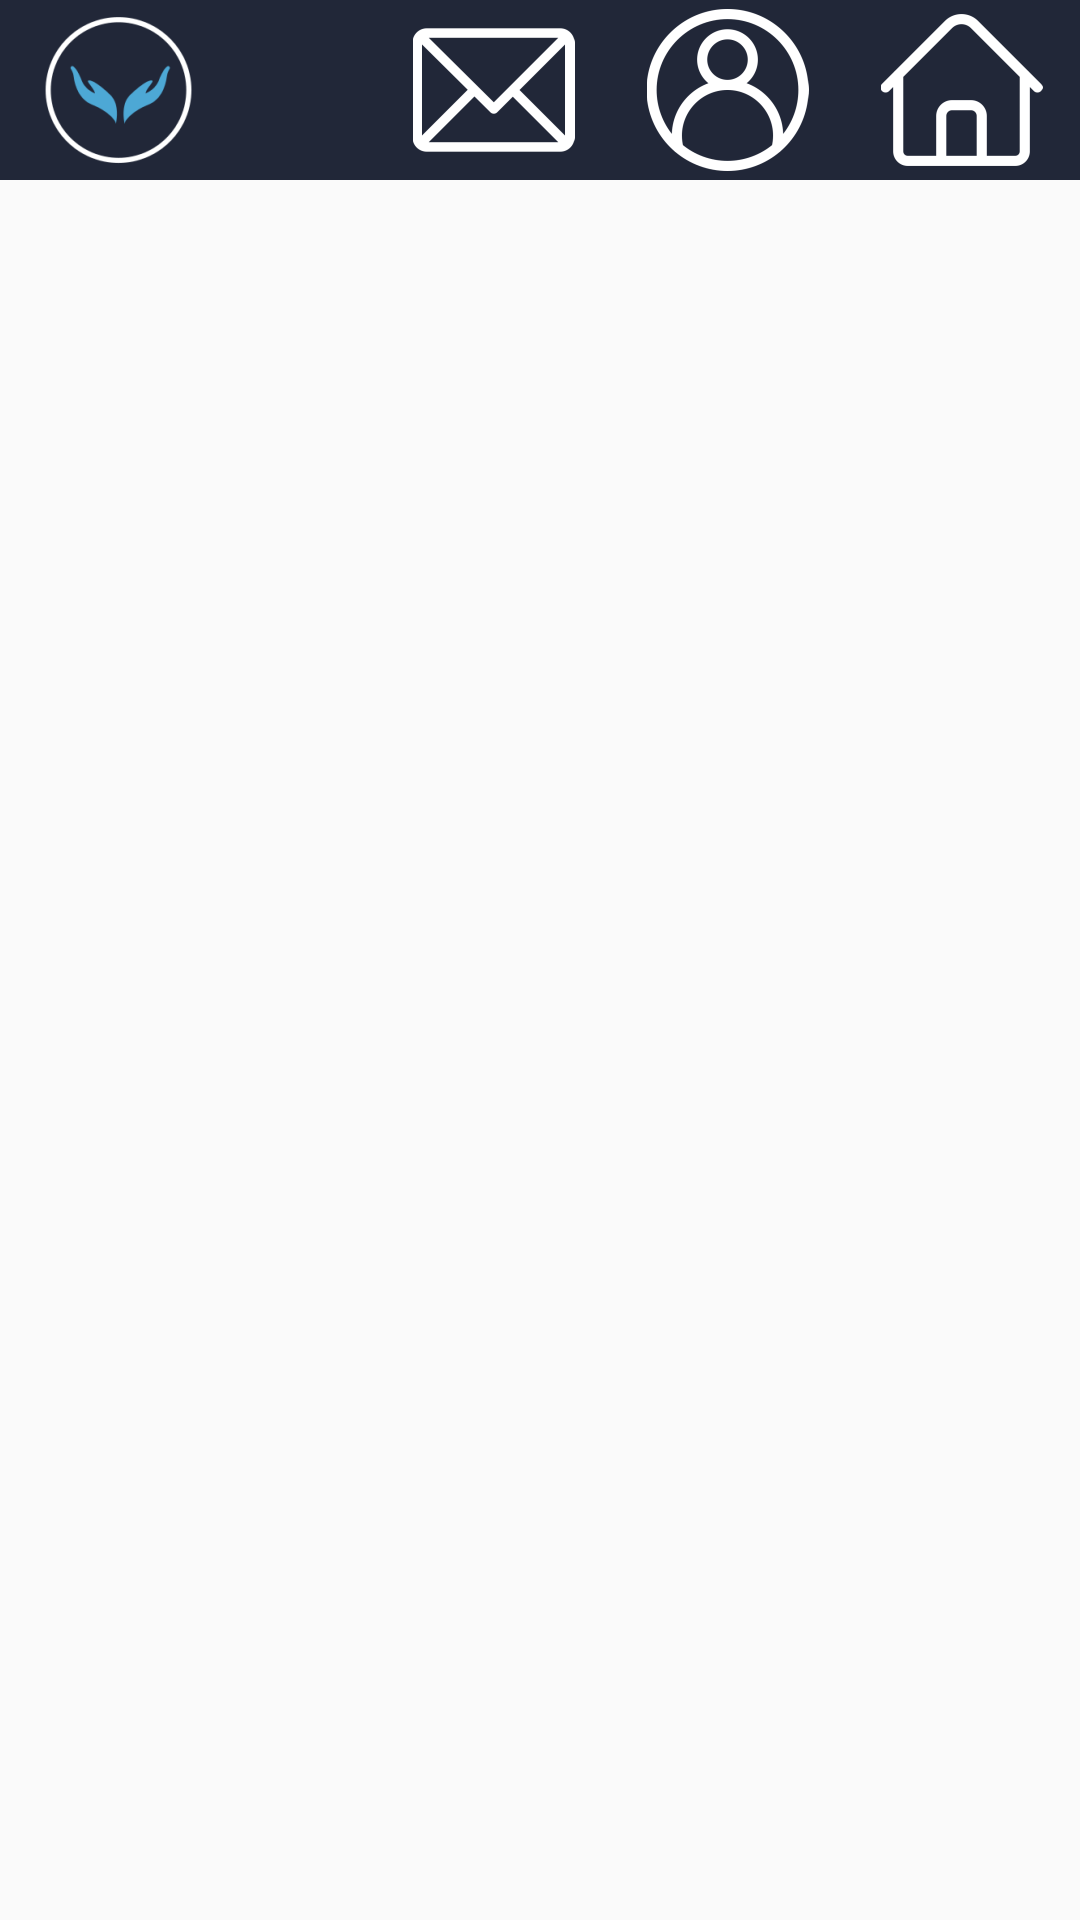

Locate icon controls on the screen. Image size 1080*1920, boxes as (x1, y1, x2, y2).
home: (881, 14, 1043, 166)
message: (413, 28, 575, 152)
profile: (647, 9, 809, 171)
